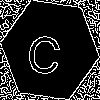C: (25, 25, 64, 76)
